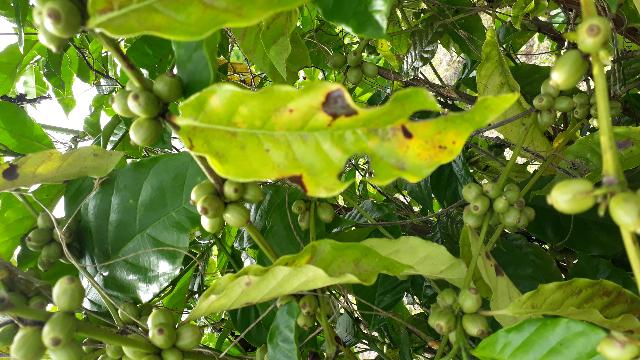rust_level_2: (176, 82, 518, 199)
